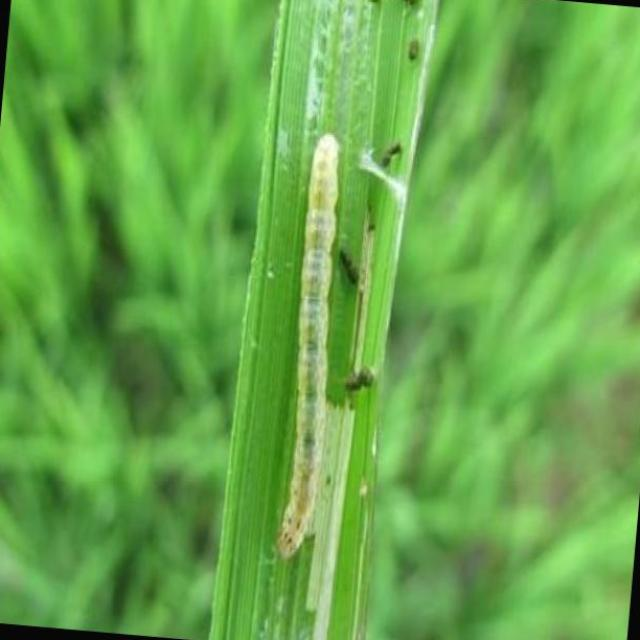leaf folder: (279, 134, 340, 555)
